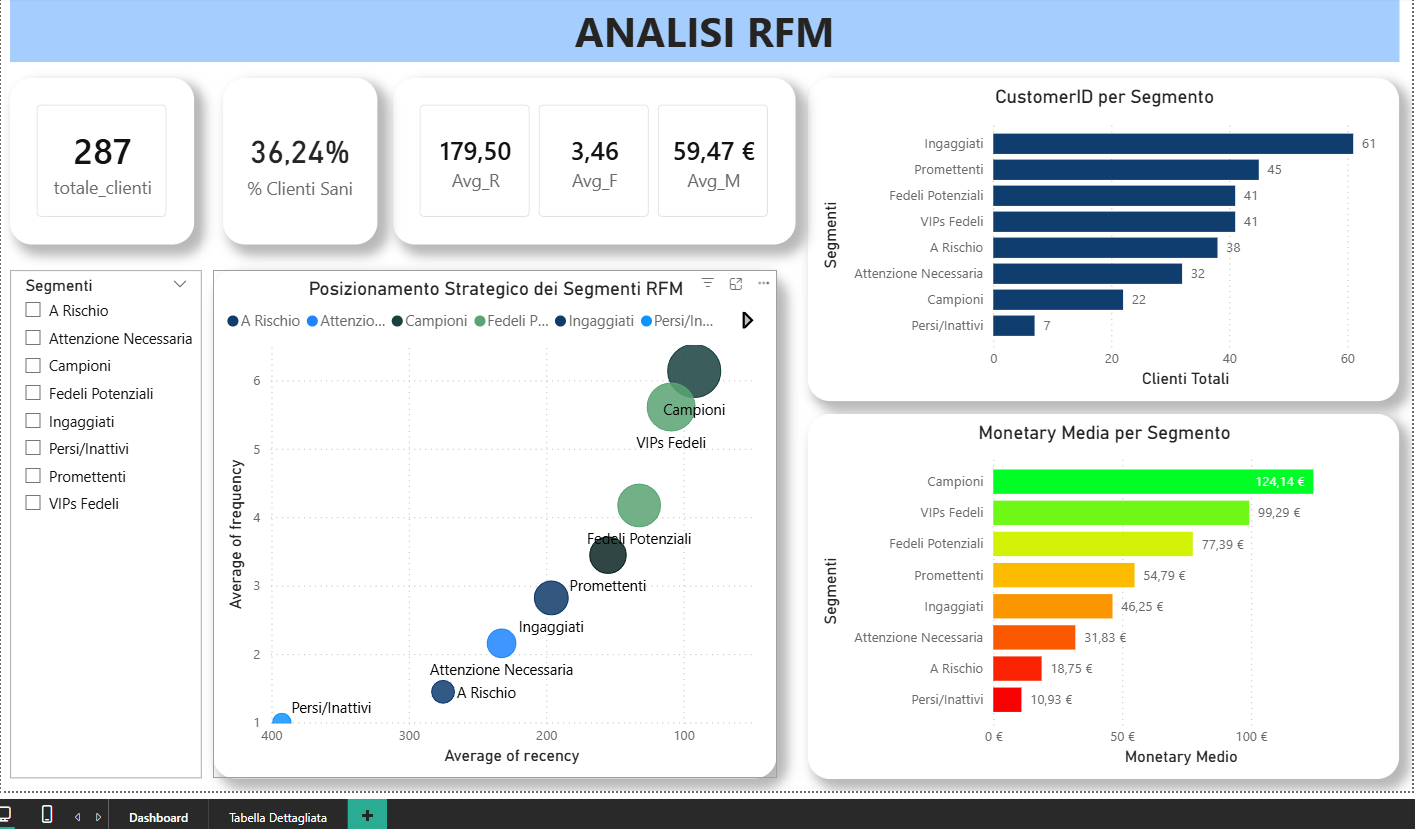

Layout of this report page (visuals, bound fields, positions):
{"tool":"powerbi","page":{"name":"Dashboard","canvas":[1280,720],"ordinal":0},"visuals":[{"type":"clusteredBarChart","title":"CustomerID per Segmento","fields":{"Y":["CountNonNull(Query1.CustomerID)"],"Category":["Query1.rfm_segmenti"]},"box":[731.8,73.2,535.9,292.7],"z":0},{"type":"cardVisual","fields":{"Data":["Query1.totale_clienti"]},"box":[7.9,73.2,166.6,150.9],"z":1000},{"type":"cardVisual","fields":{"Data":["Avg(Query1.recency)","Avg(Query1.frequency)","Avg(Query1.monetary)"]},"box":[355.5,73.5,365.4,150.5],"z":2000},{"type":"clusteredBarChart","title":"Monetary Media per Segmento","fields":{"Category":["Query1.rfm_segmenti"],"Y":["Query1.Monetary Medio"]},"box":[731.8,378.3,535.9,331],"z":3000},{"type":"card","fields":{"Values":["Query1.% Clienti Sani"]},"box":[201.5,73.2,139.6,150.9],"z":4000},{"type":"scatterChart","title":"Posizionamento Strategico dei Segmenti RFM","fields":{"X":["Avg(Query1.recency)"],"Y":["Avg(Query1.frequency)"],"Size":["Avg(Query1.monetary)"],"Series":["Query1.rfm_segmenti"]},"box":[192.5,247.9,511,460.6],"z":5000},{"type":"textbox","box":[7.9,0,1259.7,58.5],"z":6000},{"type":"slicer","fields":{"Values":["Query1.rfm_segmenti"]},"box":[8.1,247.9,174.4,460.6],"z":6001}]}

Visuals, with their boxes on the page's 1280x720 design canvas (x1, y1, x2, y2). These are canvas units, not pixel positions in the 1415x829 screenshot, which may show the page scaled, cropped or inside an application window:
"CustomerID per Segmento" clusteredBarChart: {"left": 732, "top": 73, "right": 1268, "bottom": 366}
cardVisual - Query1.totale_clienti: {"left": 8, "top": 73, "right": 174, "bottom": 224}
cardVisual - Avg(Query1.recency) x Avg(Query1.frequency): {"left": 356, "top": 74, "right": 721, "bottom": 224}
"Monetary Media per Segmento" clusteredBarChart: {"left": 732, "top": 378, "right": 1268, "bottom": 709}
card - Query1.% Clienti Sani: {"left": 202, "top": 73, "right": 341, "bottom": 224}
"Posizionamento Strategico dei Segmenti RFM" scatterChart: {"left": 192, "top": 248, "right": 704, "bottom": 708}
textbox: {"left": 8, "top": 0, "right": 1268, "bottom": 58}
slicer - Query1.rfm_segmenti: {"left": 8, "top": 248, "right": 182, "bottom": 708}
